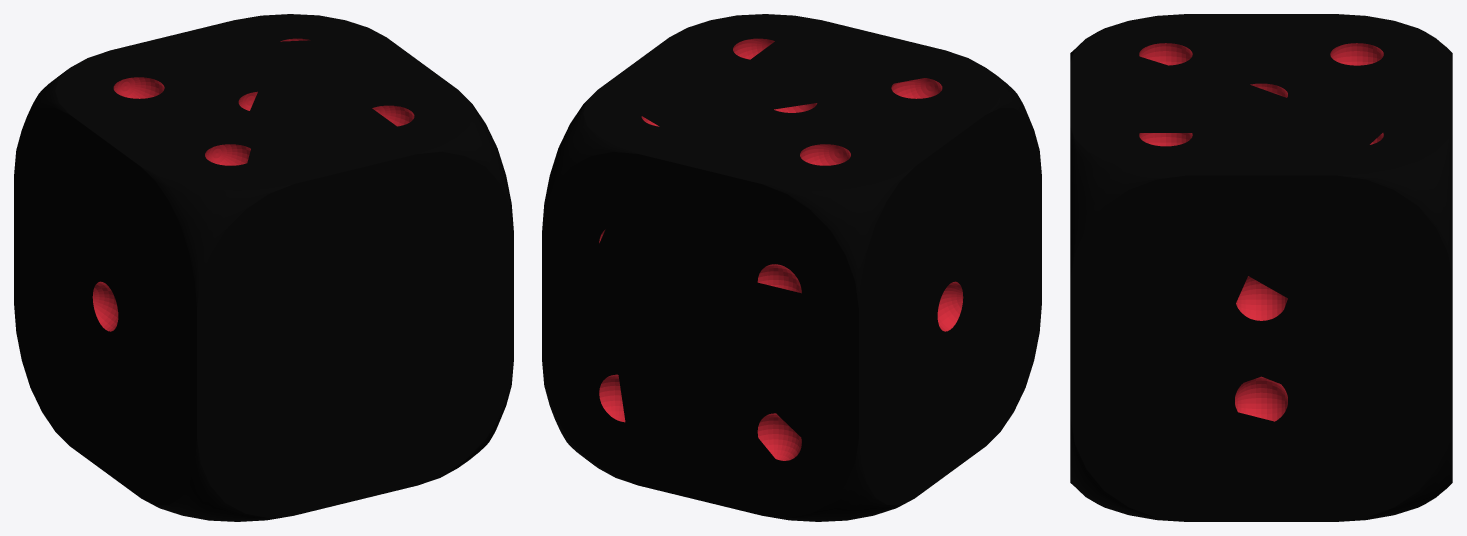
Rendered from Die.fbx.
The picture shows the model from 3 angles, left to right: view 1: azimuth 30°, elevation 25°; view 2: azimuth 150°, elevation 25°; view 3: azimuth 270°, elevation 25°; orthographic projection. The views are drawn at different scales.
Visible parts, largest first — view 1: Cube; view 2: Cube; view 3: Cube.
Boxes of the visible parts, box(x1,y1,x2,y2) form: Cube: box(14, 14, 513, 521); Cube: box(542, 14, 1041, 521); Cube: box(1070, 14, 1452, 521).
Size of the model in its own units: 200 by 200 by 200.
